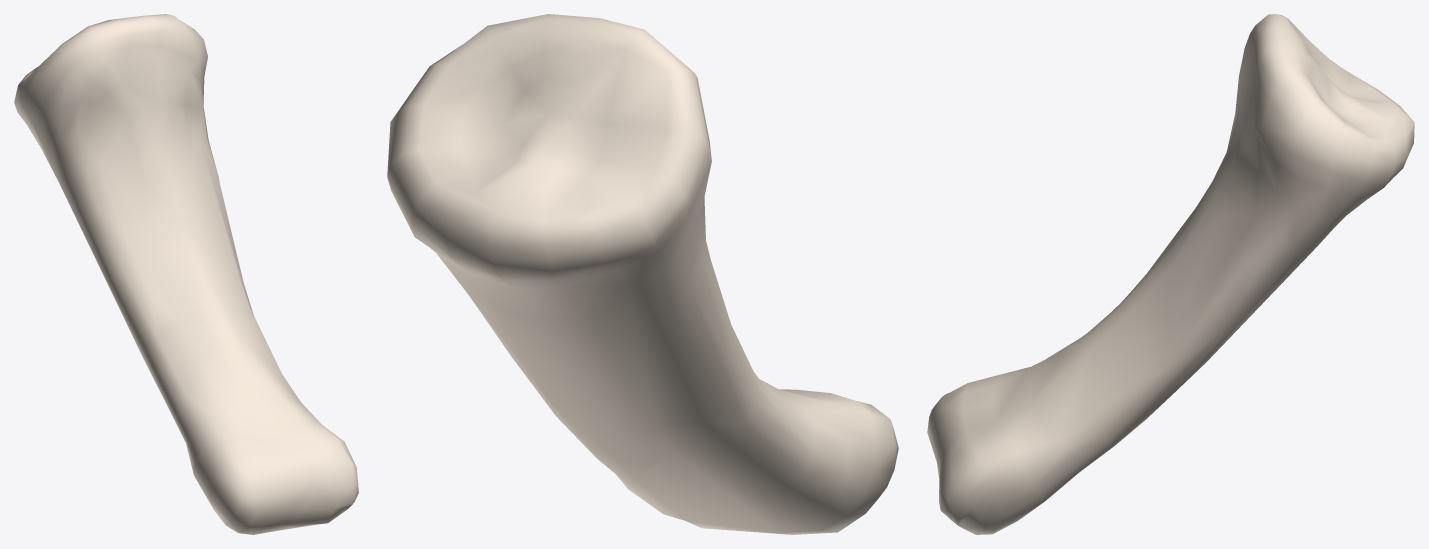
File: left_digit_4_middle.glb
The picture shows the model from 3 angles, left to right: view 1: azimuth 30°, elevation 25°; view 2: azimuth 150°, elevation 25°; view 3: azimuth 270°, elevation 25°; orthographic projection. The views are drawn at different scales.
Parts seen in each view (by area): view 1: Middle phalanx of 4th finger.r; view 2: Middle phalanx of 4th finger.r; view 3: Middle phalanx of 4th finger.r.
Boxes of the visible parts, <box> form: Middle phalanx of 4th finger.r: <box>14,14,358,534</box>; Middle phalanx of 4th finger.r: <box>387,14,898,534</box>; Middle phalanx of 4th finger.r: <box>927,14,1414,534</box>.
Size of the model in its own units: 0.0108 by 0.0245 by 0.0232.
